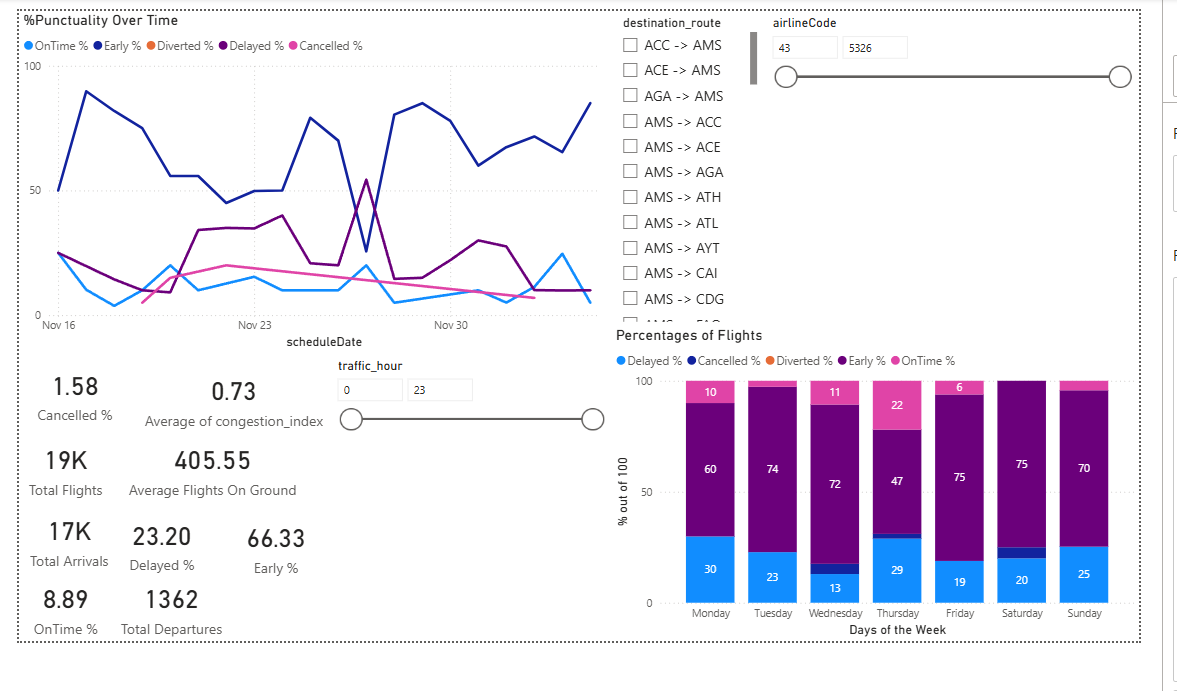

What the dashboard file says about the page in this screenshot:
{"tool":"powerbi","page":{"name":"Page 1","canvas":[1280,720],"ordinal":0},"visuals":[{"type":"columnChart","title":"Percentages of Flights delayed or Cancelled by Days of the Week","fields":{"Y":["flights_curated.Delayed %","flights_curated.Cancelled %","flights_curated.Diverted %","flights_curated.Early %","flights_curated.OnTime %"],"Category":["flights_curated.DayOfWeekName"]},"box":[677.1,360,602.9,360],"z":0},{"type":"card","fields":{"Values":["flights_curated.Cancelled %"]},"box":[9.6,391.1,108.4,91.9],"z":1000},{"type":"card","fields":{"Values":["flights_curated.Total Flights"]},"box":[0,483,107,79.6],"z":2000},{"type":"card","fields":{"Values":["flights_curated.OnTime %"]},"box":[0,643.6,107,76.8],"z":3000},{"type":"card","fields":{"Values":["flights_curated.Delayed %"]},"box":[107,562.6,112.5,91.9],"z":4000},{"type":"card","fields":{"Values":["flights_curated.Average Flights On Ground"]},"box":[118,483,205.8,79.6],"z":5000},{"type":"card","fields":{"Values":["Avg(flights_curated.congestion_index)"]},"box":[118.6,404.3,254.3,78.6],"z":6000},{"type":"card","fields":{"Values":["flights_curated.Total Arrivals"]},"box":[0,562.6,115.3,81],"z":7000},{"type":"card","fields":{"Values":["flights_curated.Total Departures"]},"box":[107,643.6,134.5,76.8],"z":8000},{"type":"lineChart","title":"%Punctuality Over Time","fields":{"Y":["flights_curated.OnTime %","flights_curated.Early %","flights_curated.Diverted %","flights_curated.Delayed %","flights_curated.Cancelled %"],"Category":["flights_curated.scheduleDate"]},"box":[0,0,677.1,391.4],"z":9000},{"type":"card","fields":{"Values":["flights_curated.Early %"]},"box":[214.1,568.1,159.2,86.4],"z":10000},{"type":"slicer","fields":{"Values":["flights_curated.destination_route"]},"box":[677.1,0,171.4,360],"z":11000},{"type":"slicer","fields":{"Values":["flights_curated.airlineCode"]},"box":[848.6,0,431.4,378.6],"z":12000},{"type":"slicer","fields":{"Values":["flights_curated.traffic_hour"]},"box":[351.4,391.4,325.7,328.6],"z":13000}]}

Visuals, with their boxes on the page's 1280x720 design canvas (x1, y1, x2, y2). These are canvas units, not pixel positions in the 1177x691 screenshot, which may show the page scaled, cropped or inside an application window:
"Percentages of Flights delayed or Cancelled by Days of the Week" columnChart: rect(677, 360, 1280, 720)
card - flights_curated.Cancelled %: rect(10, 391, 118, 483)
card - flights_curated.Total Flights: rect(0, 483, 107, 563)
card - flights_curated.OnTime %: rect(0, 644, 107, 720)
card - flights_curated.Delayed %: rect(107, 563, 220, 654)
card - flights_curated.Average Flights On Ground: rect(118, 483, 324, 563)
card - Avg(flights_curated.congestion_index): rect(119, 404, 373, 483)
card - flights_curated.Total Arrivals: rect(0, 563, 115, 644)
card - flights_curated.Total Departures: rect(107, 644, 242, 720)
"%Punctuality Over Time" lineChart: rect(0, 0, 677, 391)
card - flights_curated.Early %: rect(214, 568, 373, 654)
slicer - flights_curated.destination_route: rect(677, 0, 848, 360)
slicer - flights_curated.airlineCode: rect(849, 0, 1280, 379)
slicer - flights_curated.traffic_hour: rect(351, 391, 677, 720)
